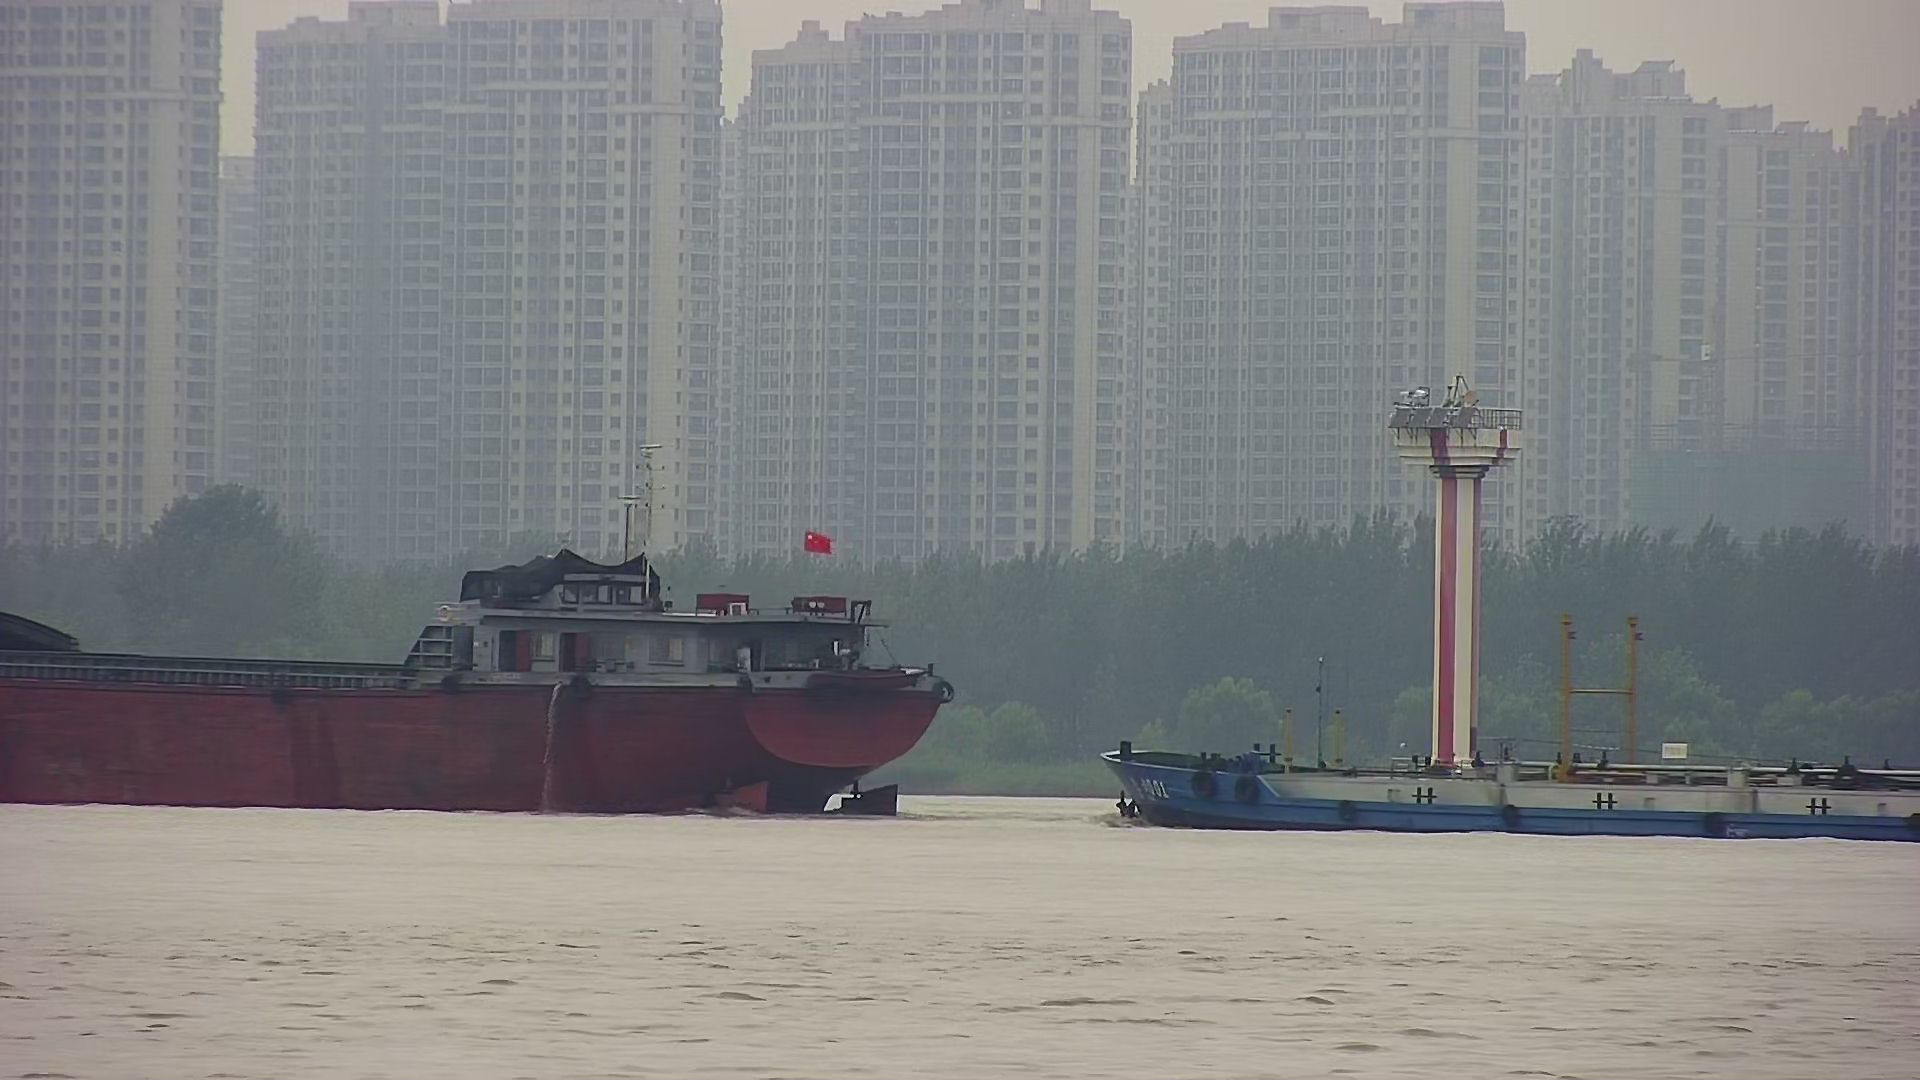platform: (1389, 377, 1523, 855)
ship: (1, 472, 957, 823), (1101, 618, 1920, 855)
